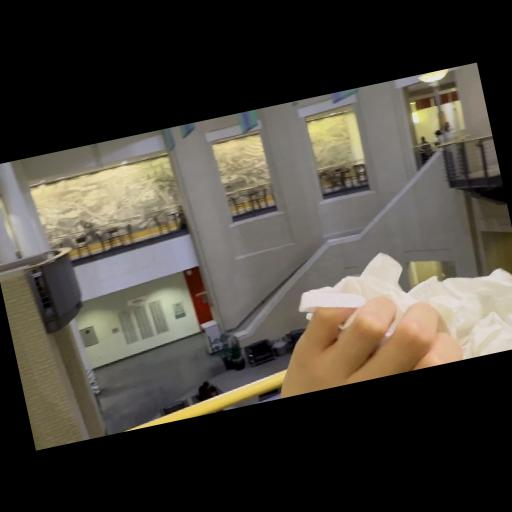napkin: (287, 223, 512, 391)
